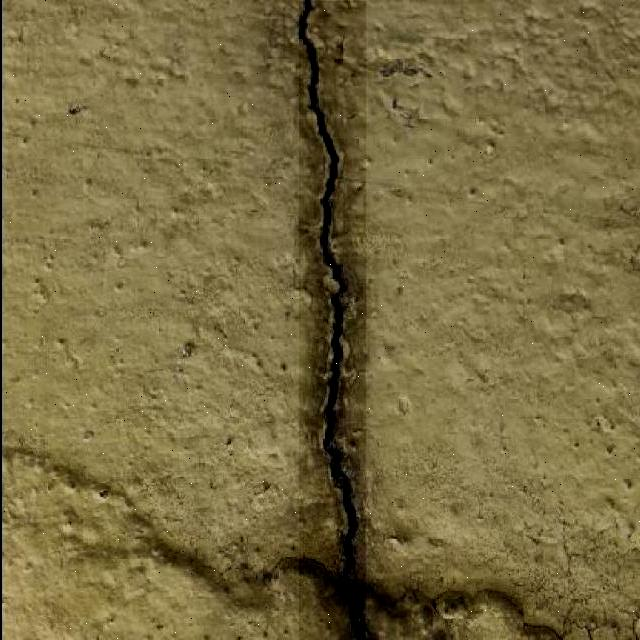crack: (295, 0, 370, 639)
